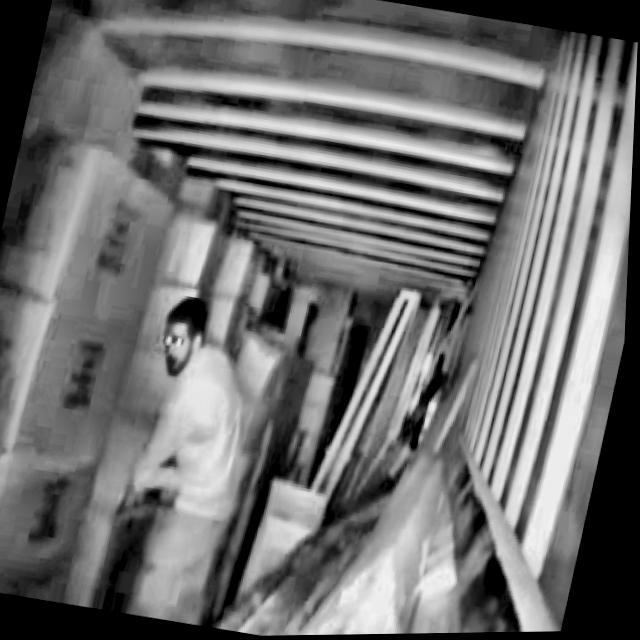burglary: (65, 273, 292, 630)
